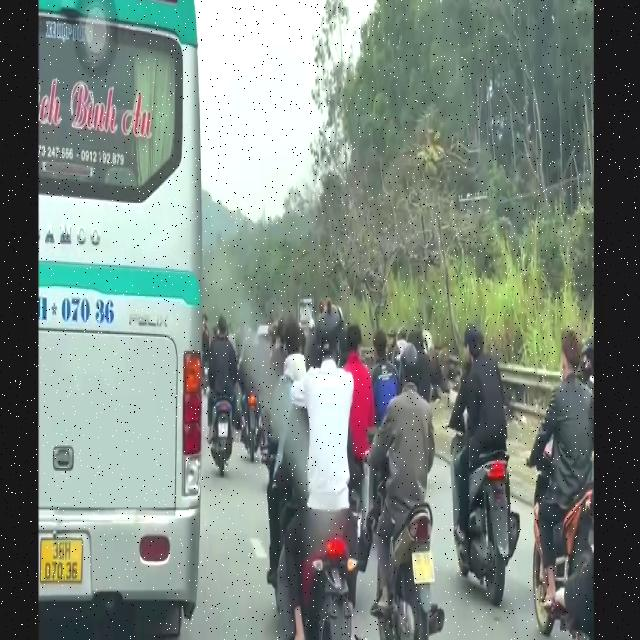no_helmet: (560, 326, 582, 392)
